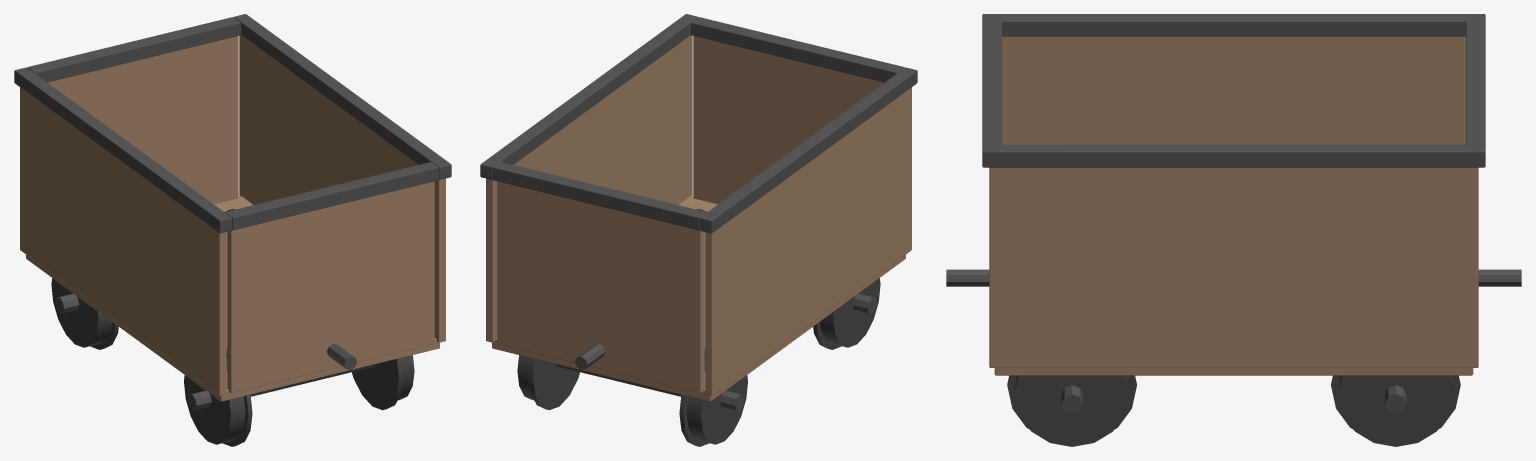
File: mine_tub.glb
The picture shows the model from 3 angles, left to right: view 1: azimuth 30°, elevation 25°; view 2: azimuth 150°, elevation 25°; view 3: azimuth 270°, elevation 25°; orthographic projection. The views are drawn at different scales.
Visible parts, largest first — view 1: static; view 2: static; view 3: static.
Part boxes in pixels (x1=…): static: x1=14, y1=14, x2=451, y2=446; static: x1=480, y1=14, x2=917, y2=446; static: x1=946, y1=14, x2=1521, y2=446.
Size of the model in its own units: 0.91 by 0.97 by 1.6.
